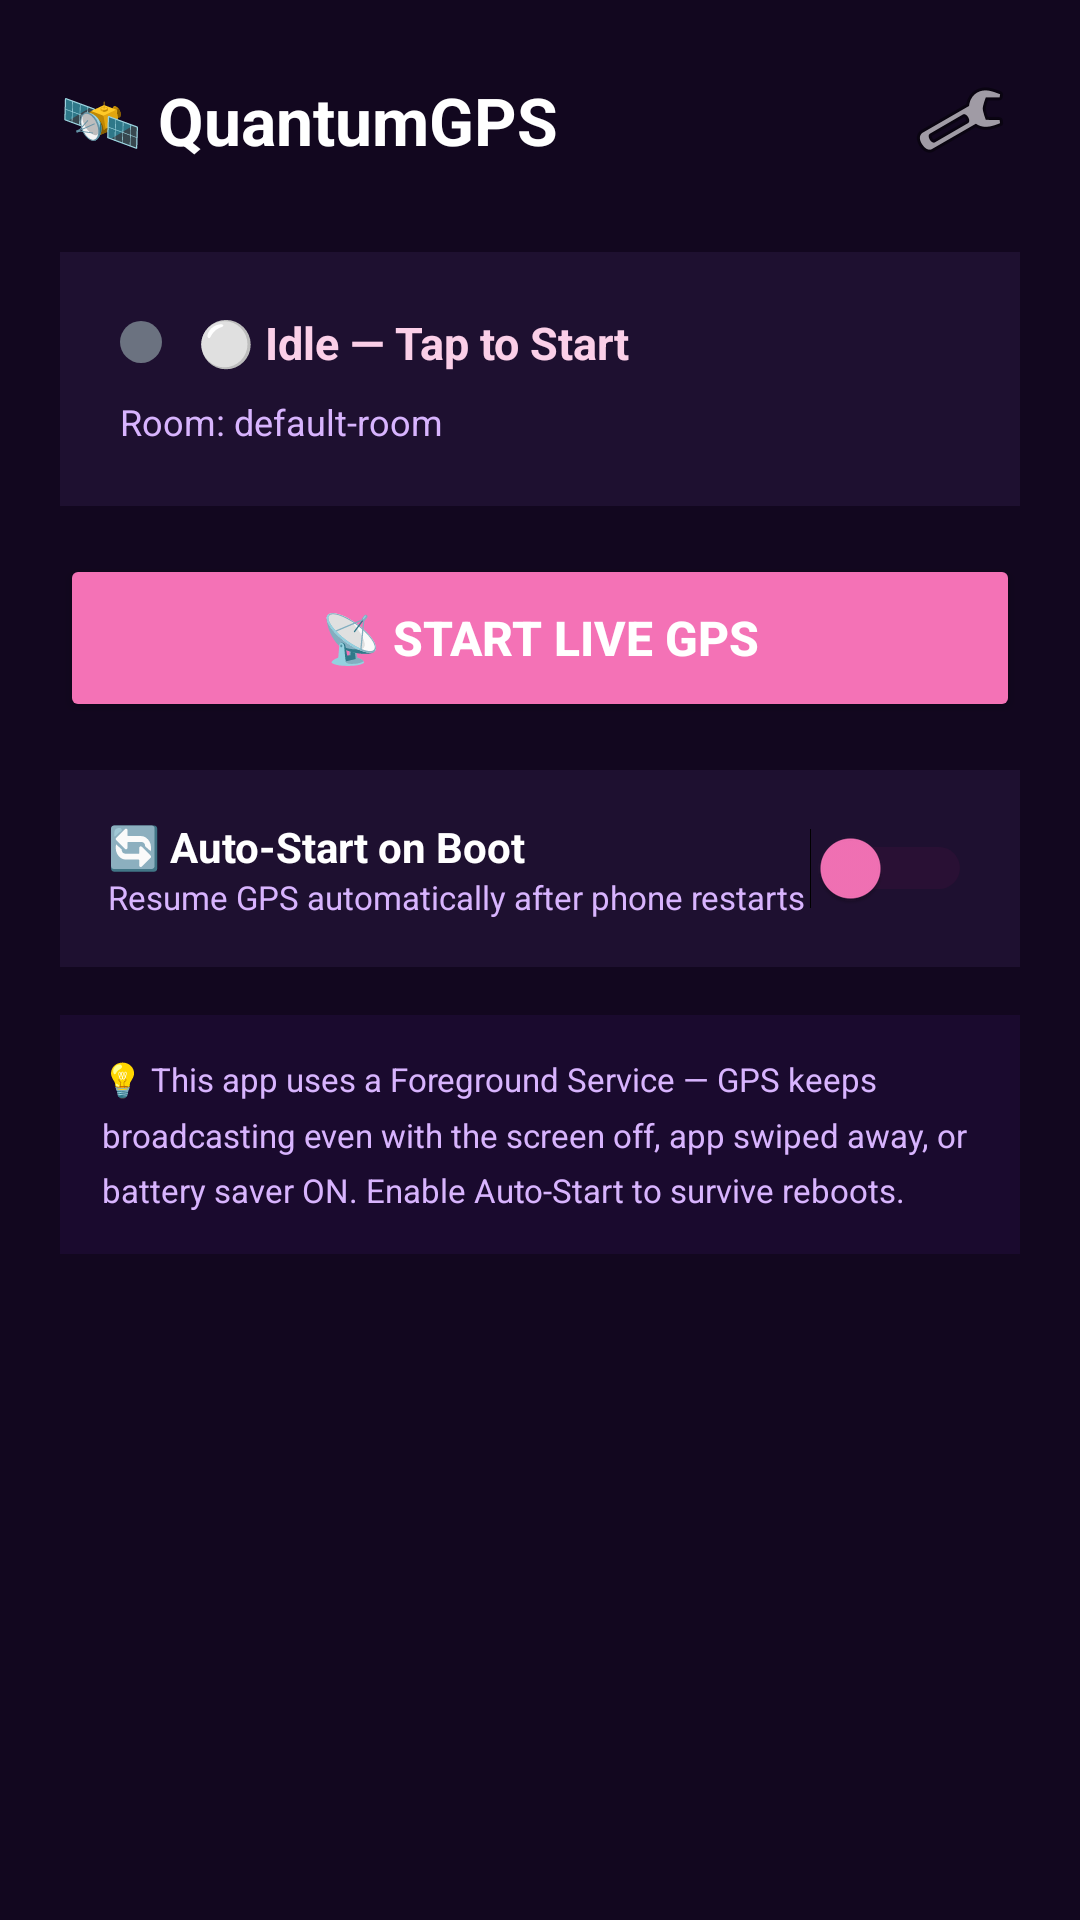

Screen size 1080 × 1920. Icon name, then its center in pixels as (x,y):
Settings: (960,120)
